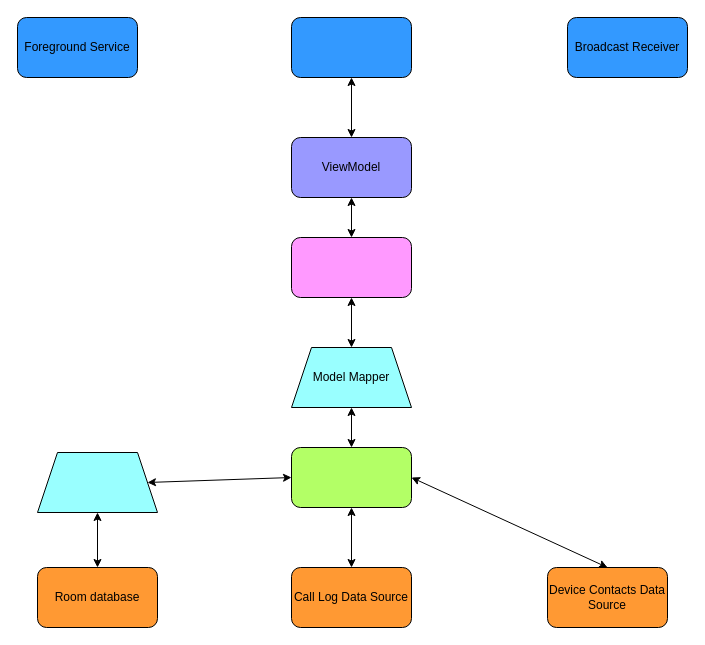
Image size: 705x645. Some labels were removed from this diagram. The centre of each missing label's shape, as x and y in pixels:
Entity Mapper: (x=97, y=482)
Fragment: (x=351, y=47)
Model: (x=351, y=267)
Repository: (x=351, y=477)
